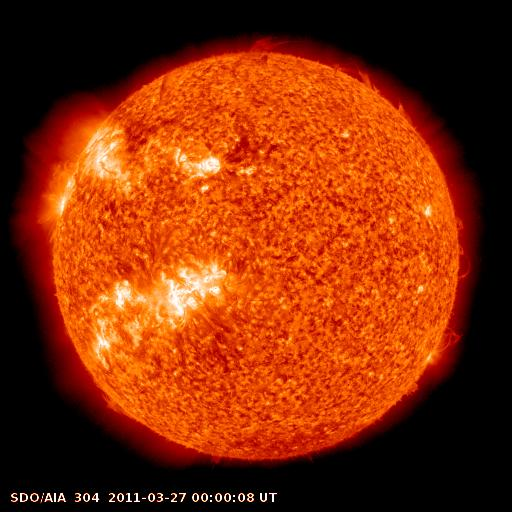prominence: (445, 209, 484, 283), (329, 47, 382, 96), (231, 28, 295, 60), (93, 386, 131, 418), (393, 92, 414, 125)
